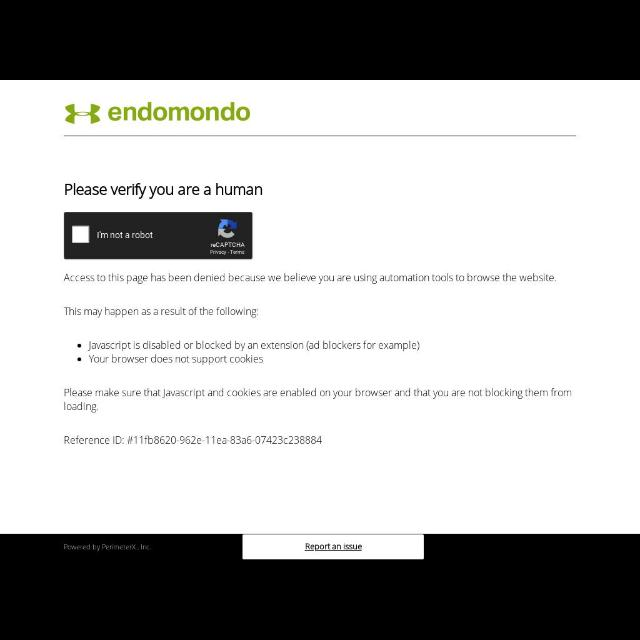checkbox: (72, 226, 90, 244)
icon: (76, 342, 82, 348), (76, 357, 82, 361)
image: (66, 104, 250, 125)
text: (63, 388, 570, 398), (64, 274, 558, 284), (89, 341, 421, 351), (64, 304, 260, 320), (65, 184, 263, 198), (64, 436, 324, 446), (89, 354, 264, 368), (64, 543, 150, 551), (96, 228, 152, 240), (64, 401, 98, 414), (305, 544, 363, 550)
textbutton: (242, 536, 424, 558)
